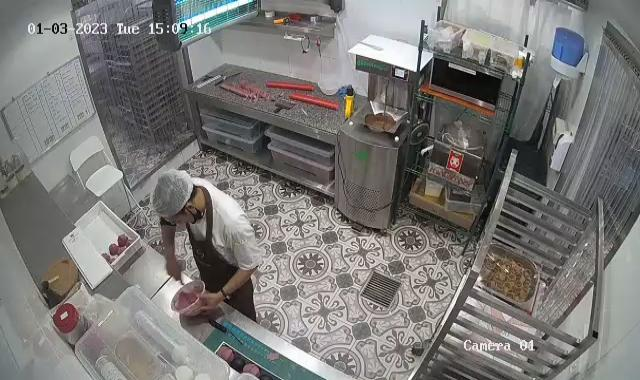hairnet: (152, 170, 197, 224)
